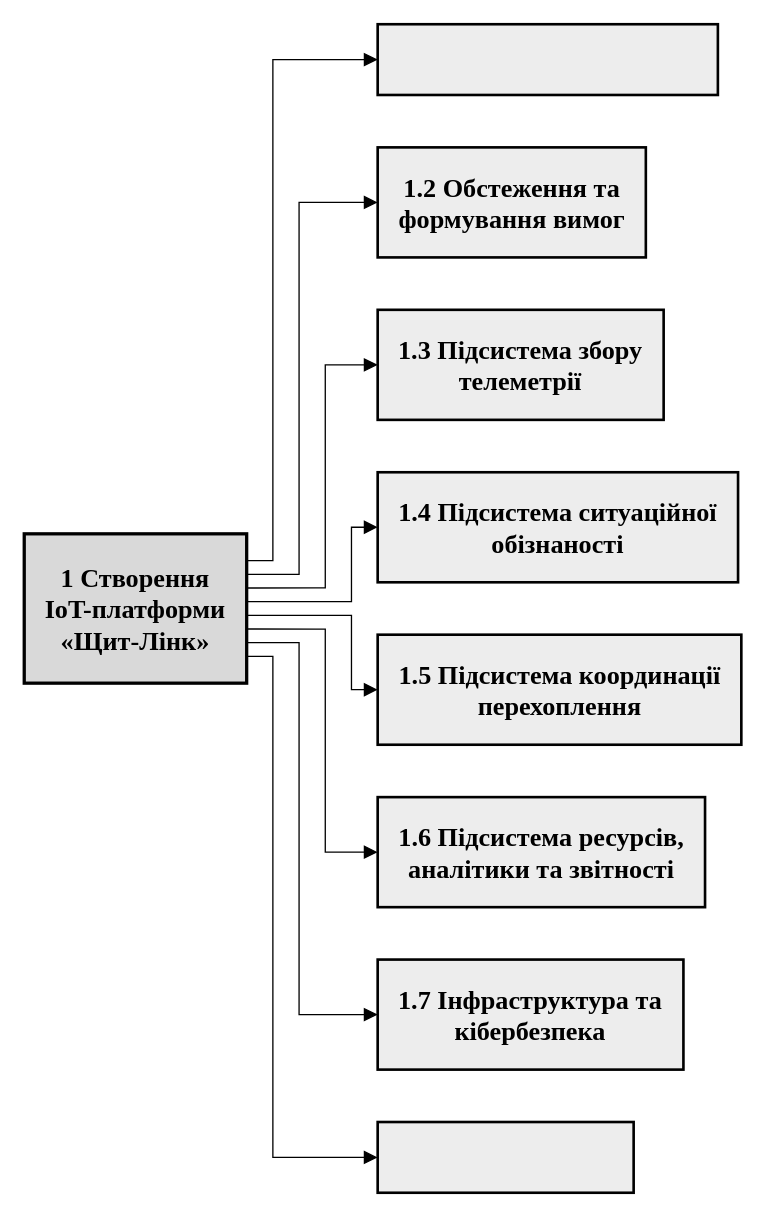
This 765x1216 diagram has some shape labels left out. Here are the shapes that lost their labels. From the top down, the centre of each, then its label:
the point at 547,59: 1.1 Управління проектом
the point at 505,1156: 1.8 Впровадження
